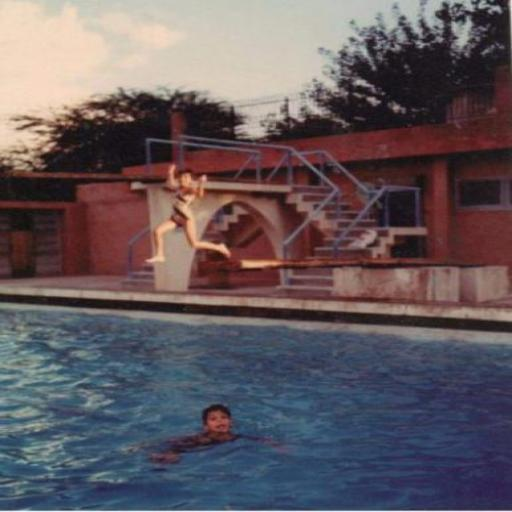swimming: (139, 161, 235, 267), (142, 401, 288, 469)
